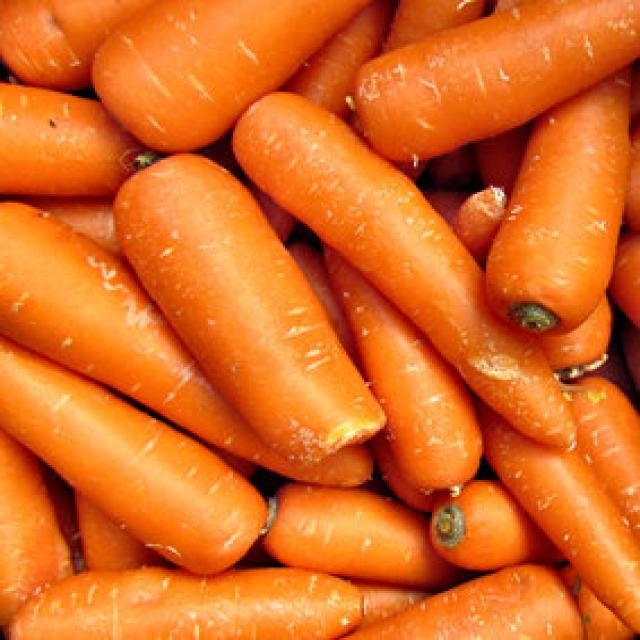Fresh_Carrot: (211, 103, 515, 385), (0, 198, 228, 515), (116, 163, 374, 434), (357, 0, 640, 150)
